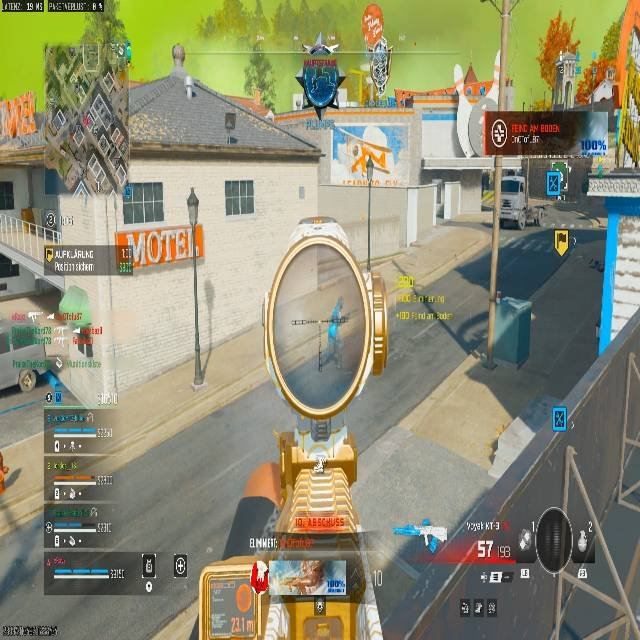player: (295, 42, 341, 109), (317, 297, 349, 373)
